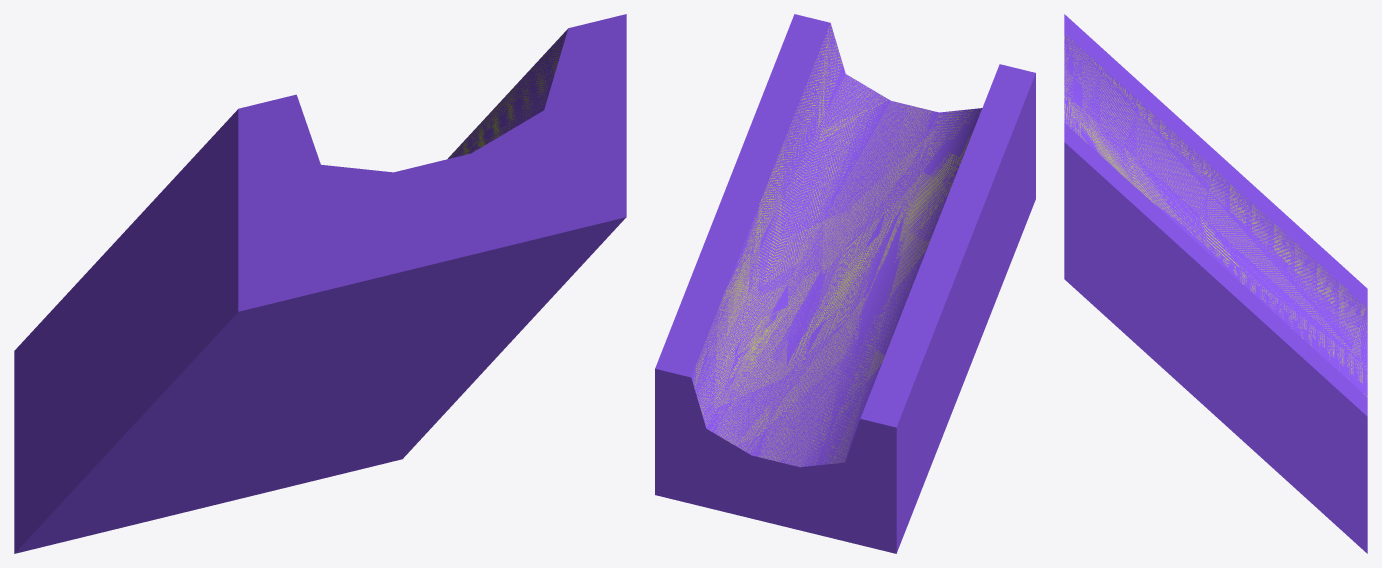
File: slant_C.obj
3 views of the same model, side by side, from view 1: azimuth 30°, elevation 25°; view 2: azimuth 150°, elevation 25°; view 3: azimuth 270°, elevation 25° (orthographic). The views are drawn at different scales.
Parts seen in each view (by area): view 1: slant_C; view 2: slant_C; view 3: slant_C.
Part boxes in pixels (x1,y1,x2,y2): slant_C: (14, 14, 626, 553); slant_C: (655, 14, 1035, 553); slant_C: (1064, 14, 1367, 553).
Bounding box in the file's own units: 1 × 1.5 × 1.
